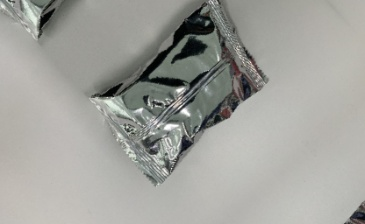br: (77, 0, 291, 193)
